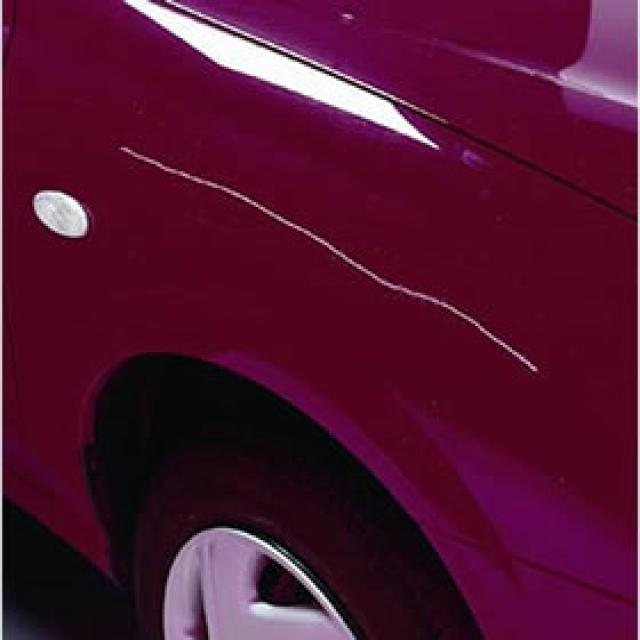scratch: (109, 141, 551, 381)
